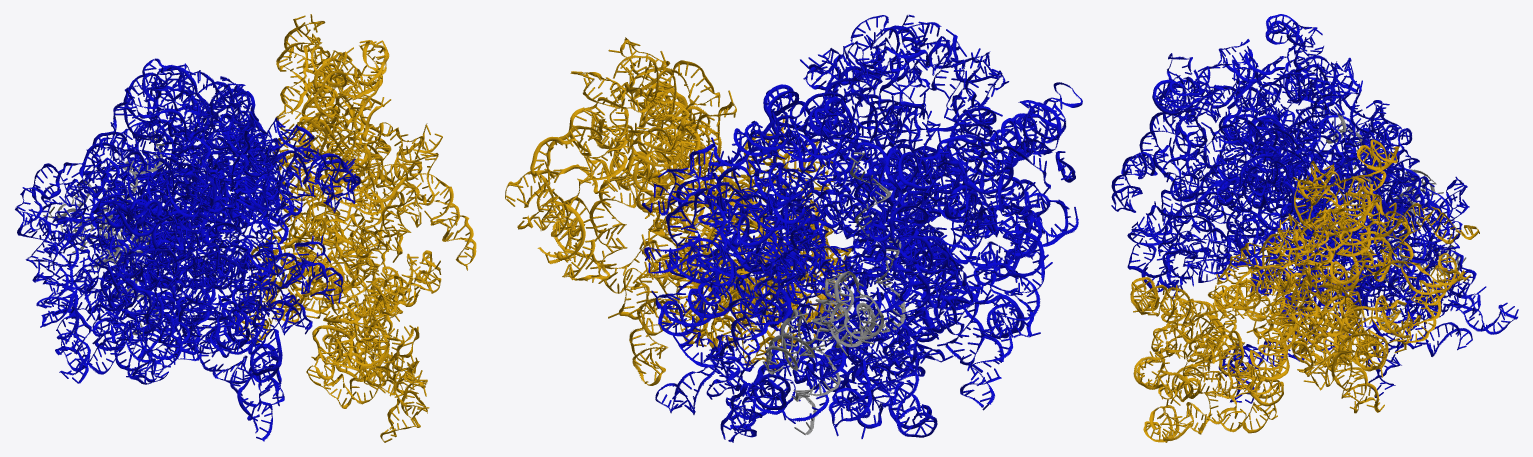
File: ribos-rna.glb
3 views of the same model, side by side, from view 1: azimuth 30°, elevation 25°; view 2: azimuth 150°, elevation 25°; view 3: azimuth 270°, elevation 25° (orthographic). The views are drawn at different scales.
Parts seen in each view (by area): view 1: vmd_mol0_rep0, vmd_mol0_rep6; view 2: vmd_mol0_rep0, vmd_mol0_rep6; view 3: vmd_mol0_rep0, vmd_mol0_rep6.
Boxes of the visible parts, x1,y1,x2,y2 form: vmd_mol0_rep0: (15,14,476,442); vmd_mol0_rep6: (199,204,284,385); vmd_mol0_rep0: (505,14,1082,442); vmd_mol0_rep6: (880,144,1013,290); vmd_mol0_rep0: (1111,14,1518,442); vmd_mol0_rep6: (1127,152,1255,298).
Bounding box in the file's own units: 2.54 × 2.11 × 2.24.
